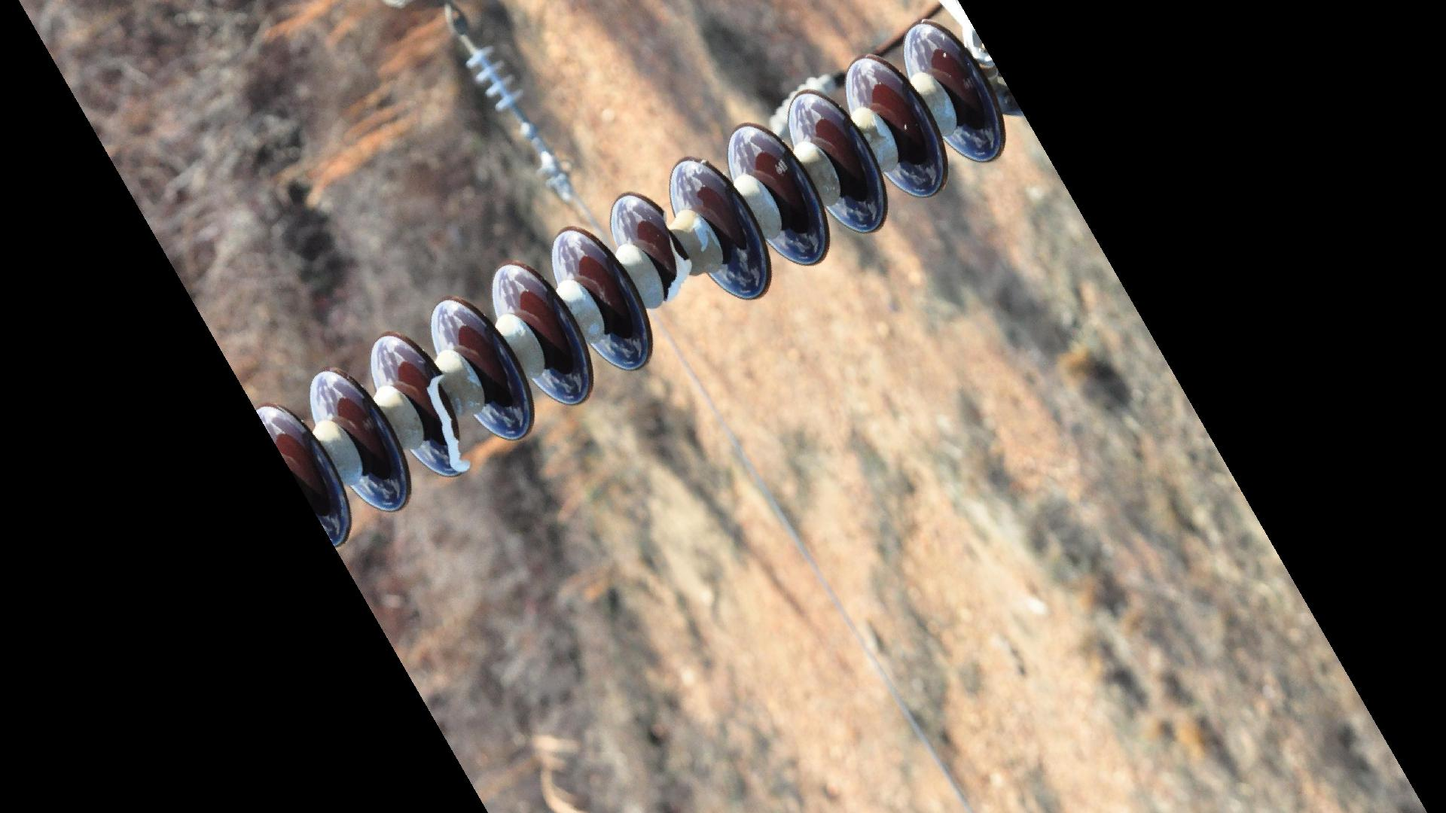insulator: (247, 1, 1014, 558), (462, 39, 532, 120)
insulator_breakage: (412, 362, 481, 486), (651, 197, 698, 315)
